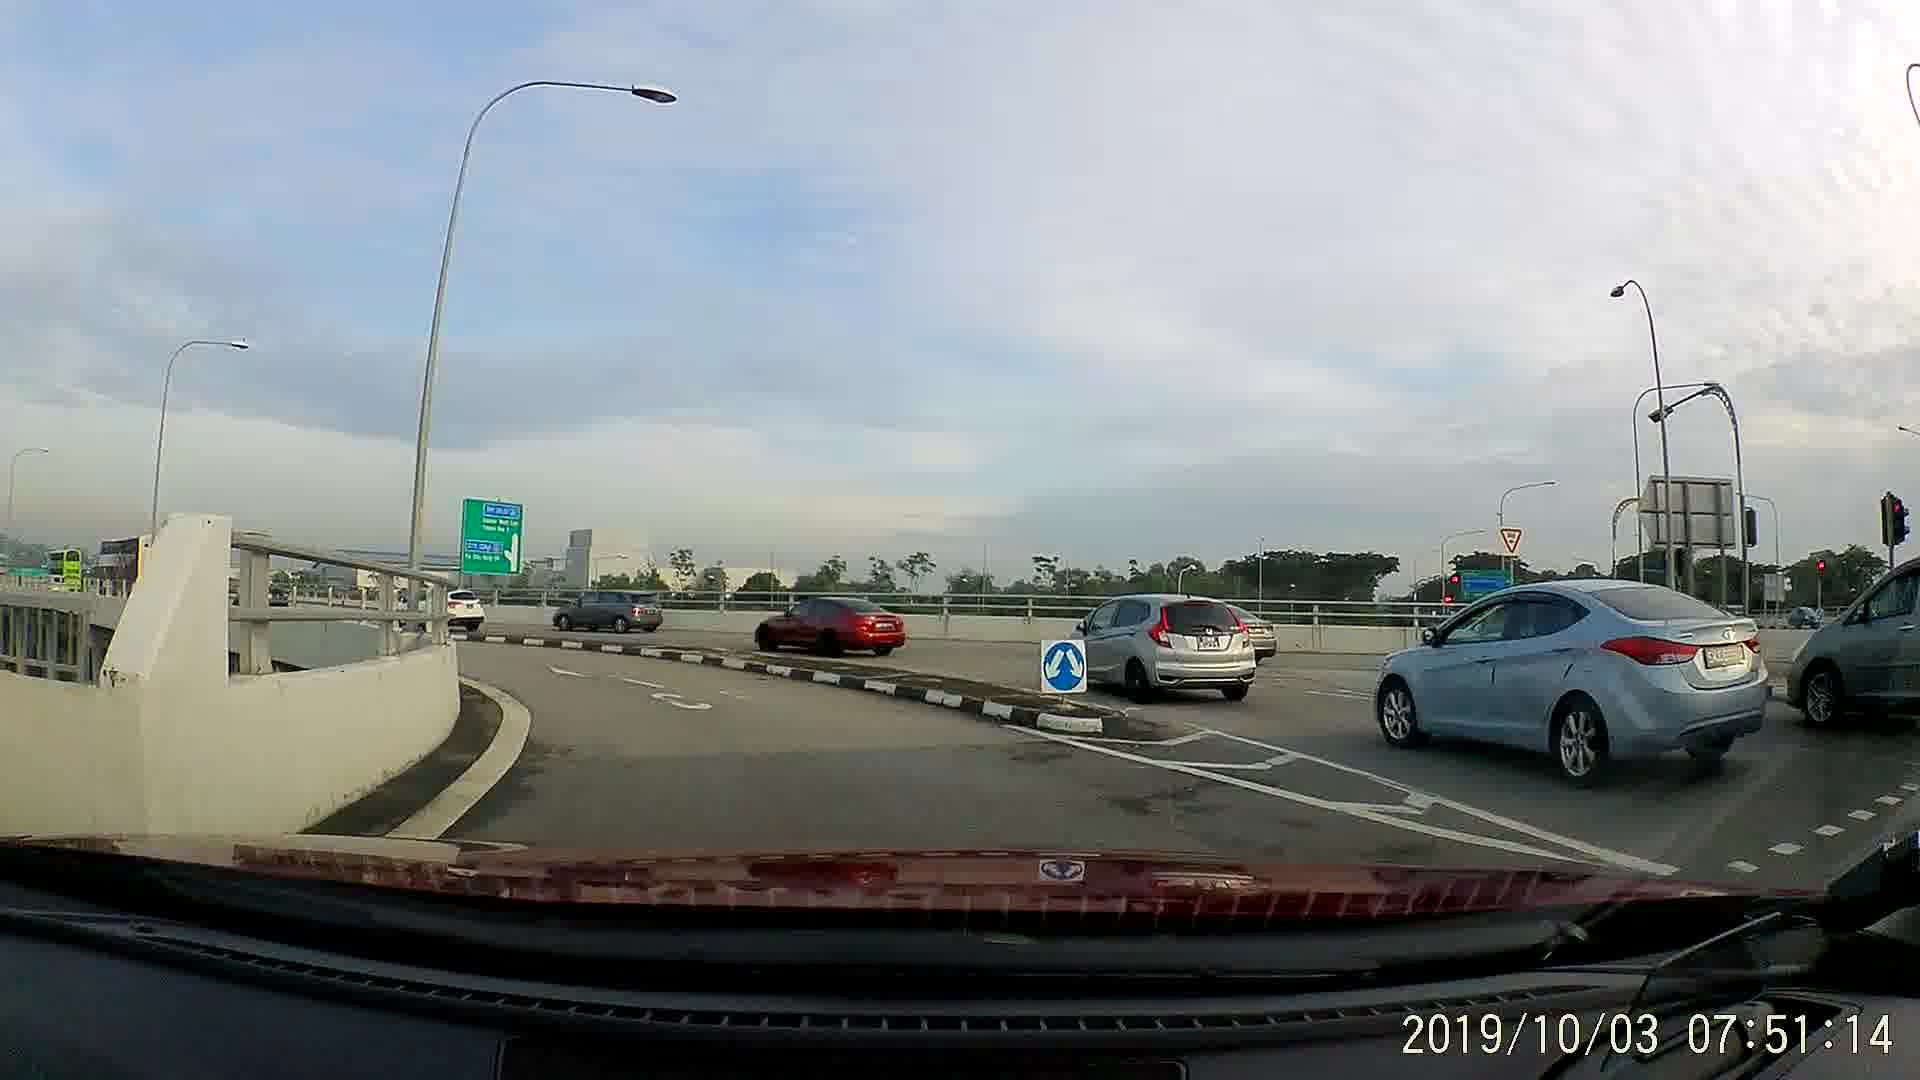car: (1365, 556, 1776, 791), (1793, 541, 1919, 732), (1065, 591, 1255, 713), (742, 585, 909, 655), (542, 585, 666, 636)
